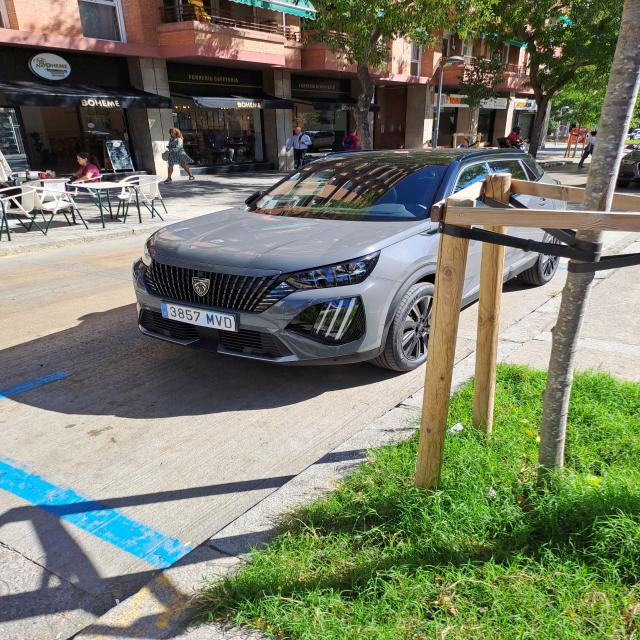license_plate-34Td: (161, 303, 236, 331)
